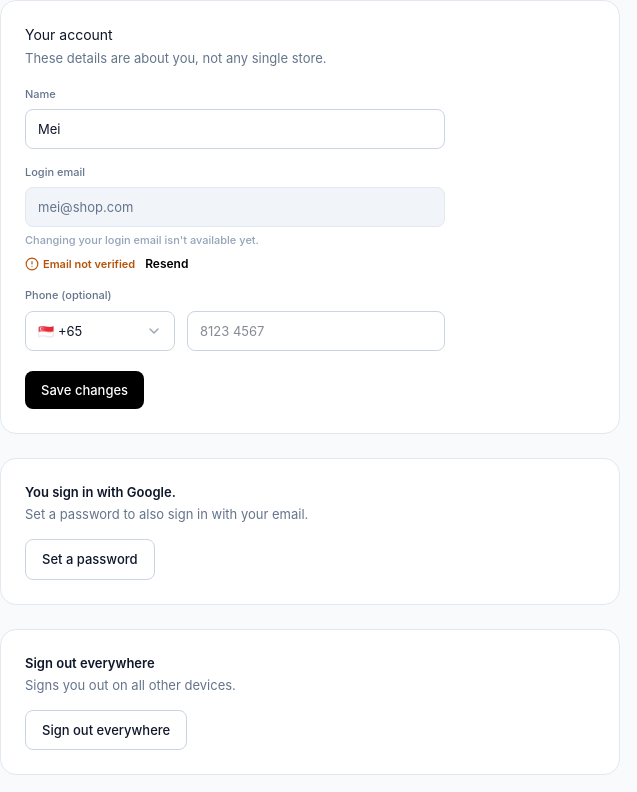
Test case: AccountSettings › offers Resend when the email is not verified
The width and height of the screenshot is (637, 792).
Expected: the text "Email not verified" is shown, [25,257,135,271]
Click the button "Resend" at (167, 264), box [145,256,188,272]
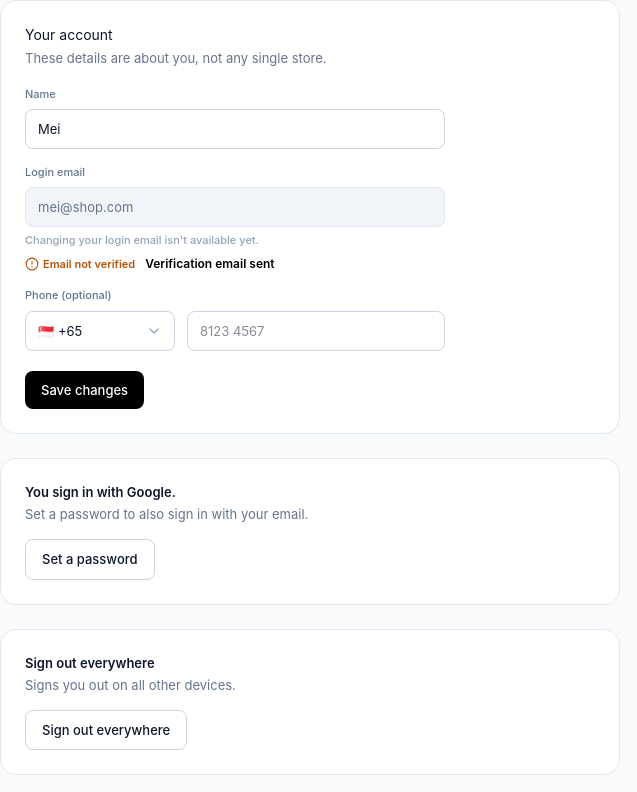
Expected: the button "Verification email sent" is shown, [145,256,275,272]
